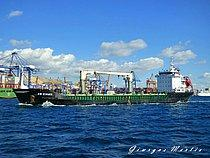Ship: (11, 68, 199, 105)
